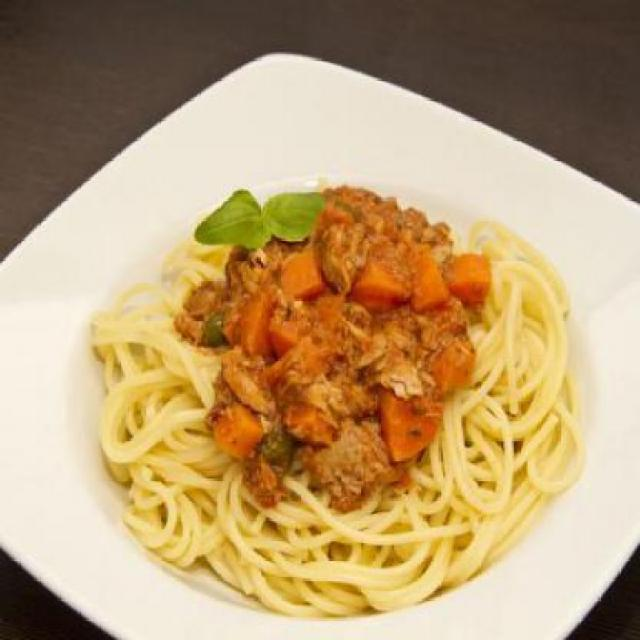Pasta al ragu: (98, 130, 574, 608)
